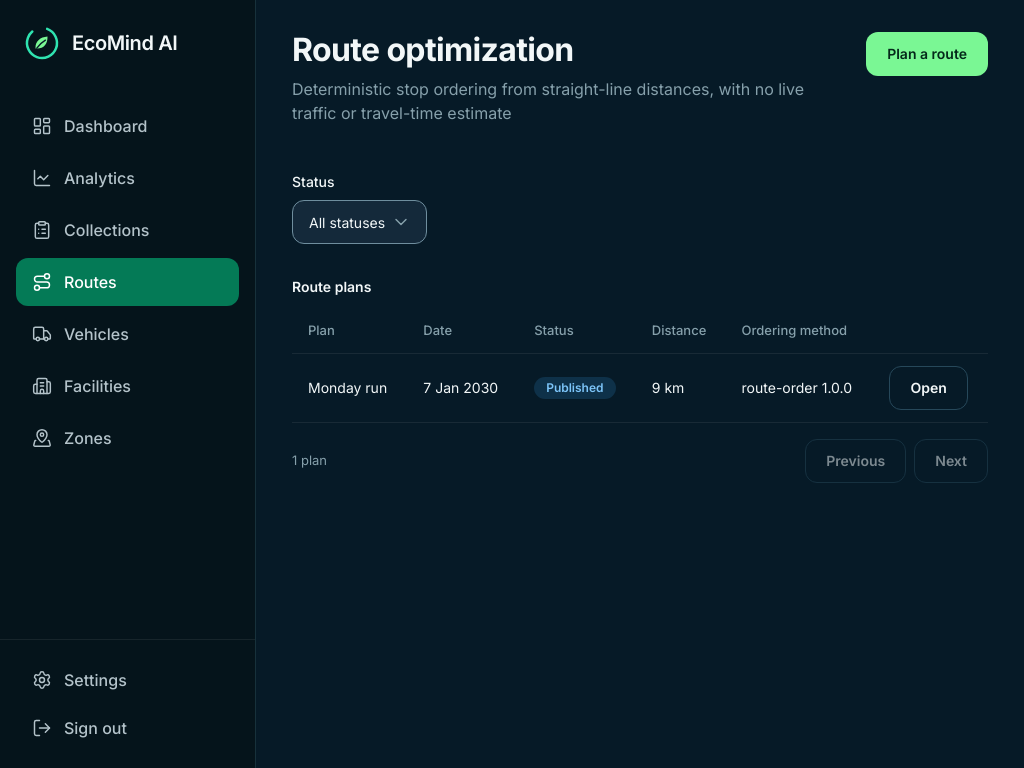
route plan map › explains a provider failure (timeout) and still shows the stops
Click the button with aria-label "Monday run" at (929, 388), box x1=889 y1=366 x2=968 y2=410
(page scrolled)
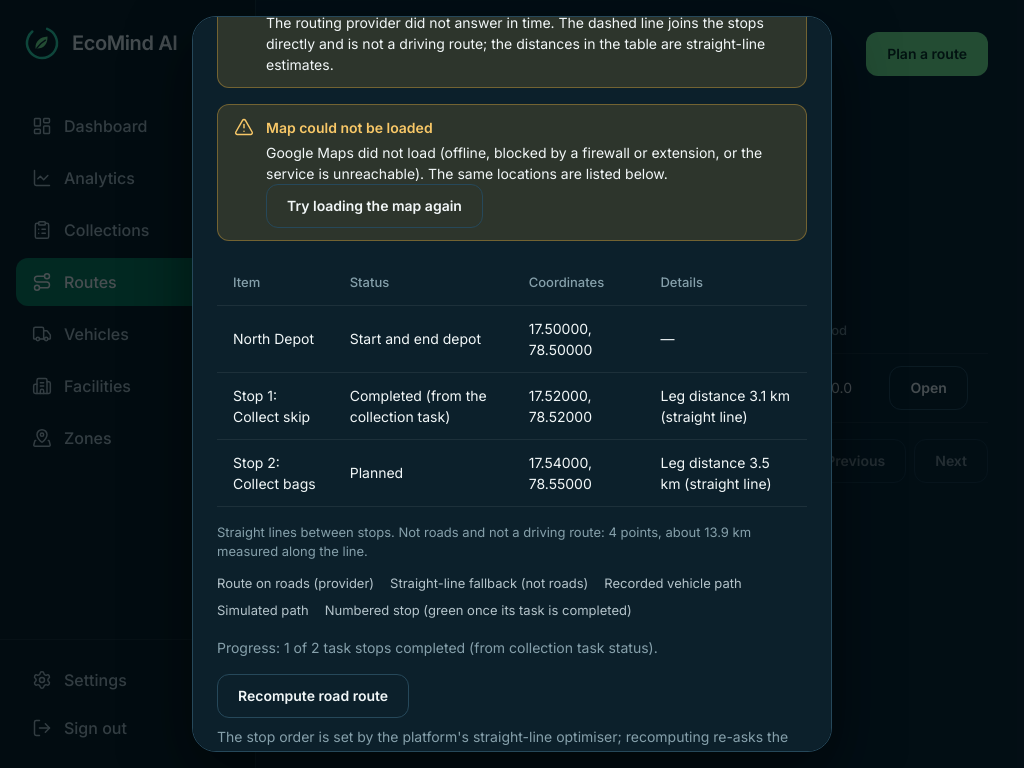
Now the text "did not answer in time" is shown, box x1=266 y1=16 x2=555 y2=31
Now the table named "Route plan: locations" is shown, box x1=217 y1=261 x2=807 y2=507
